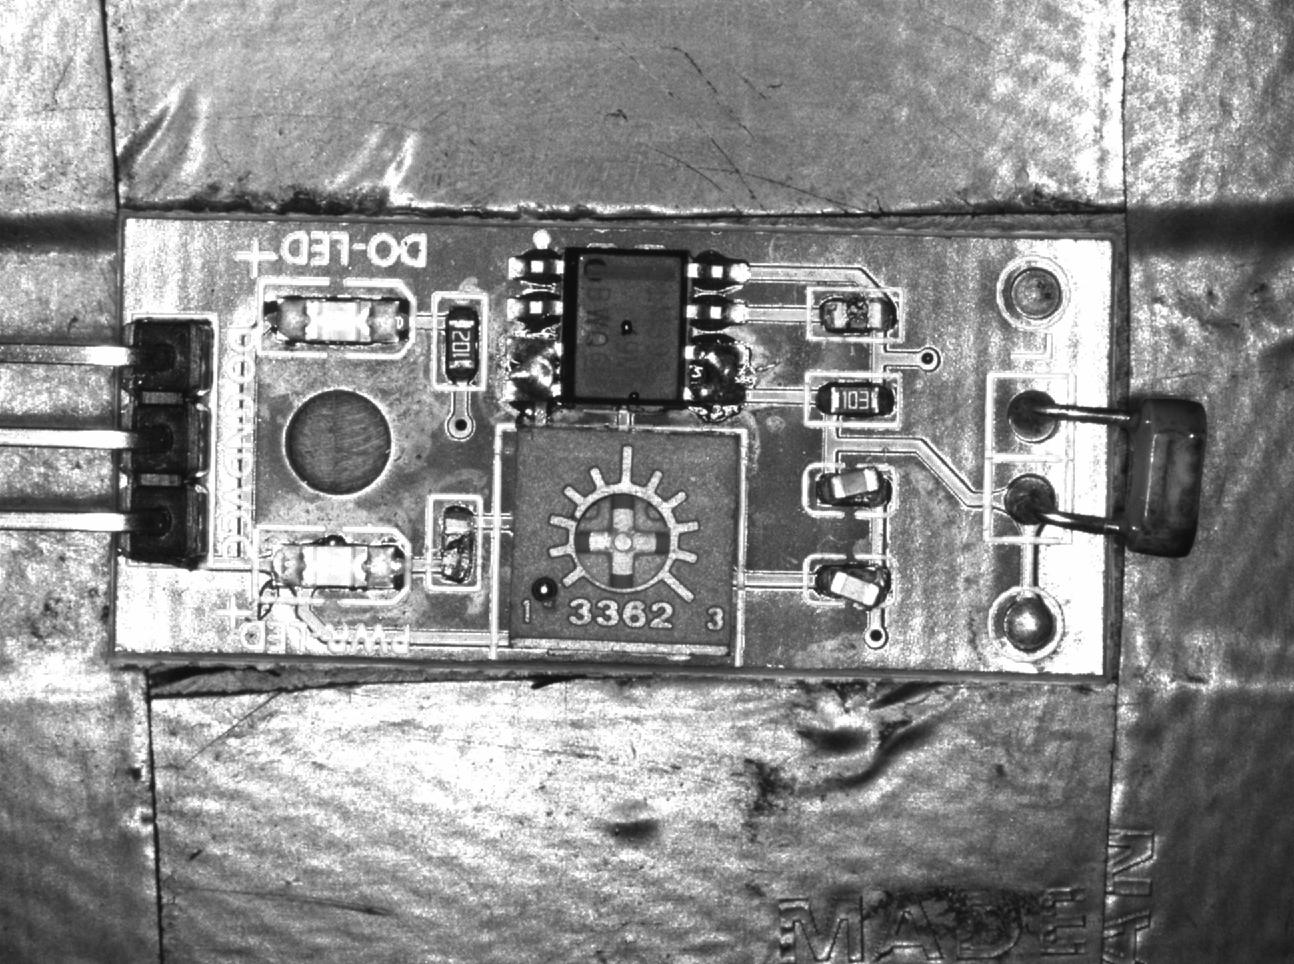bridge: (679, 339, 754, 405), (504, 338, 563, 407)
lifted: (805, 556, 895, 612), (804, 463, 895, 515)
miss: (806, 287, 904, 344), (431, 494, 483, 590)
ok: (805, 373, 901, 428), (433, 292, 487, 389)
